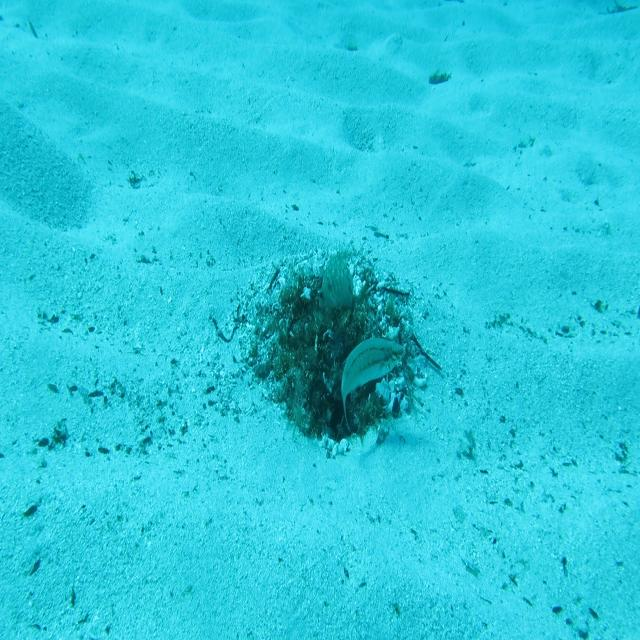NIP_CORE: (318, 248, 355, 316)
core_nest: (304, 289, 353, 345)
female: (338, 334, 408, 434)
nest: (228, 234, 434, 469)
vegetation: (427, 69, 456, 89)
